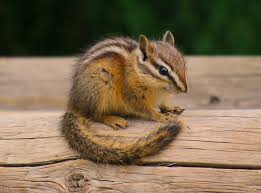Ardilla: (74, 29, 195, 123)
